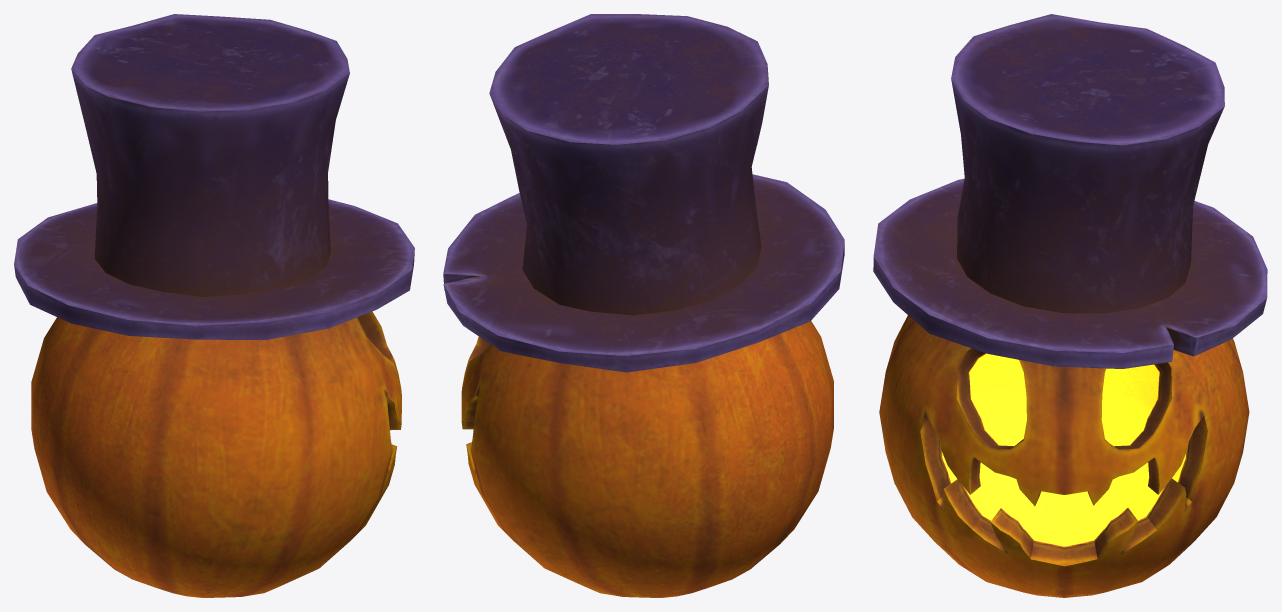
The model's file is background_pumpkin2.glb.
3 views of the same model, side by side, from view 1: azimuth 30°, elevation 25°; view 2: azimuth 150°, elevation 25°; view 3: azimuth 270°, elevation 25° (orthographic).
Visible parts, largest first — view 1: z_hat_low.001, z_face_low.001; view 2: z_hat_low.001, z_face_low.001; view 3: z_hat_low.001, z_face_low.001.
Part boxes in pixels (bbox=[...]): z_hat_low.001: bbox=[14, 14, 414, 339]; z_face_low.001: bbox=[31, 311, 401, 597]; z_hat_low.001: bbox=[443, 14, 844, 372]; z_face_low.001: bbox=[461, 321, 833, 597]; z_hat_low.001: bbox=[873, 14, 1267, 368]; z_face_low.001: bbox=[879, 315, 1249, 597].
Size of the model in its own units: 0.6264 by 0.8819 by 0.6141.
1 material, 1 textured.
